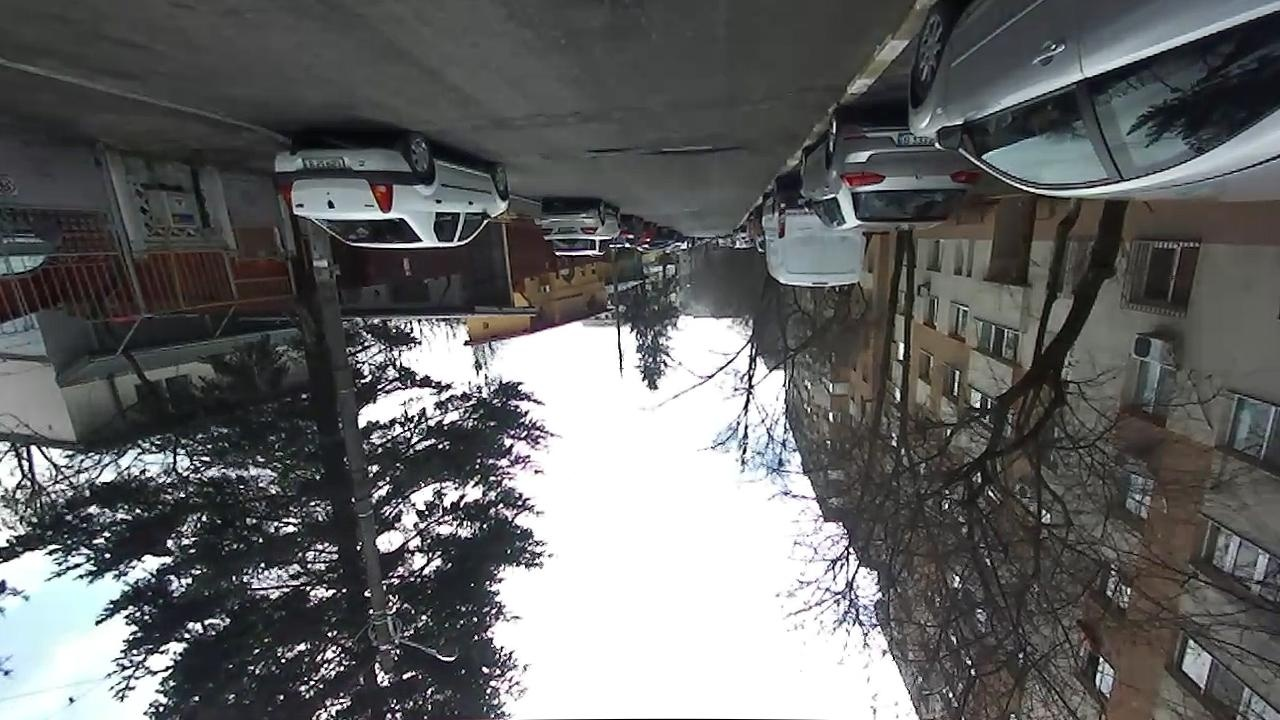pothole: (651, 144, 740, 156), (586, 147, 631, 154)
